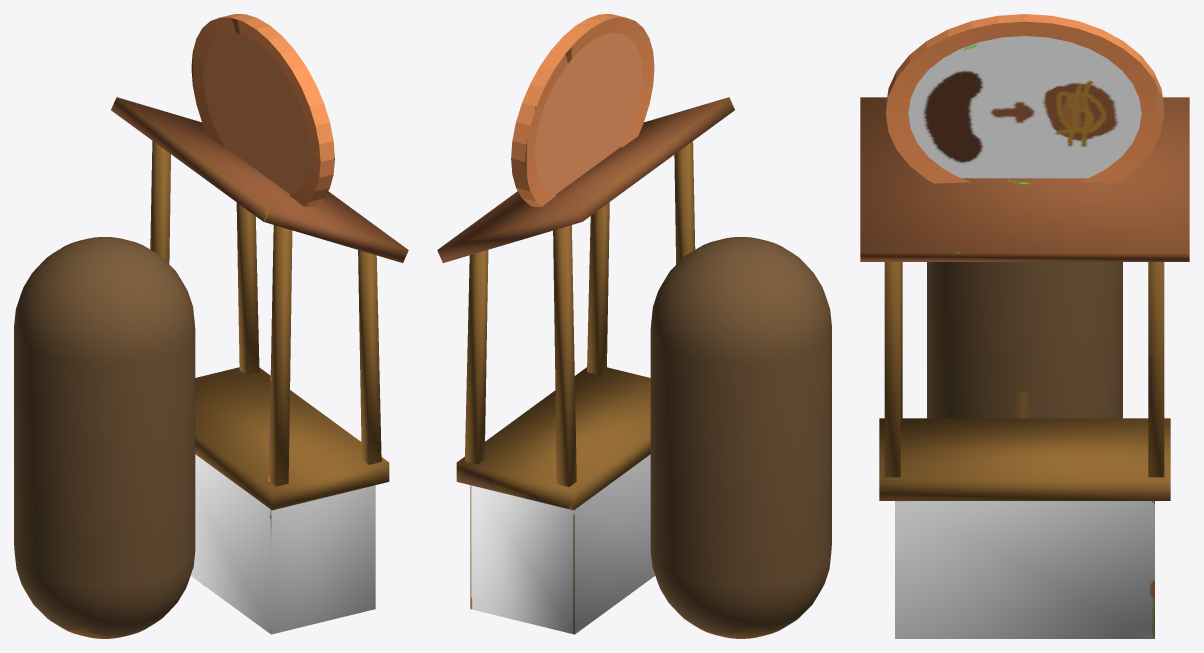
The model's file is Bean to Beancoin Station.fbx.
The picture shows the model from 3 angles, left to right: view 1: azimuth 30°, elevation 25°; view 2: azimuth 150°, elevation 25°; view 3: azimuth 270°, elevation 25°; orthographic projection. The views are drawn at different scales.
Parts seen in each view (by area): view 1: Upgrade station; view 2: Upgrade station; view 3: Upgrade station.
Boxes of the visible parts, x1,y1,x2,y2 form: Upgrade station: (14,14,408,638); Upgrade station: (437,14,831,638); Upgrade station: (860,14,1189,638).
Bounding box in the file's own units: 390 × 686 × 336.
Materials: 1 (1 with a texture image).
